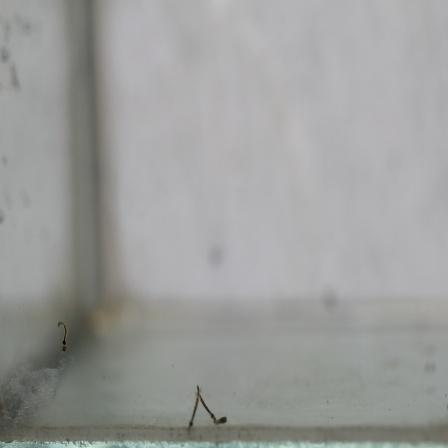Jentik-Nyamuk: (185, 383, 230, 431), (55, 318, 71, 354)
